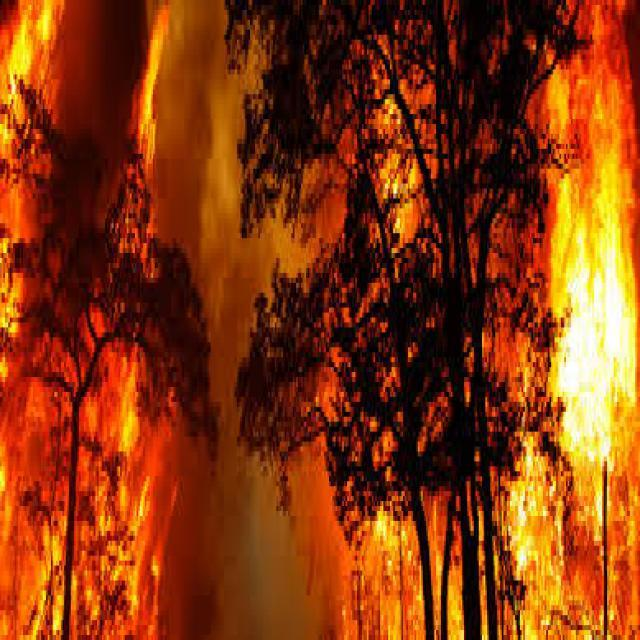Fire: (4, 5, 208, 640), (480, 0, 640, 636), (365, 8, 427, 300), (352, 485, 433, 640), (317, 366, 339, 420)
Smoke: (156, 32, 298, 480)
